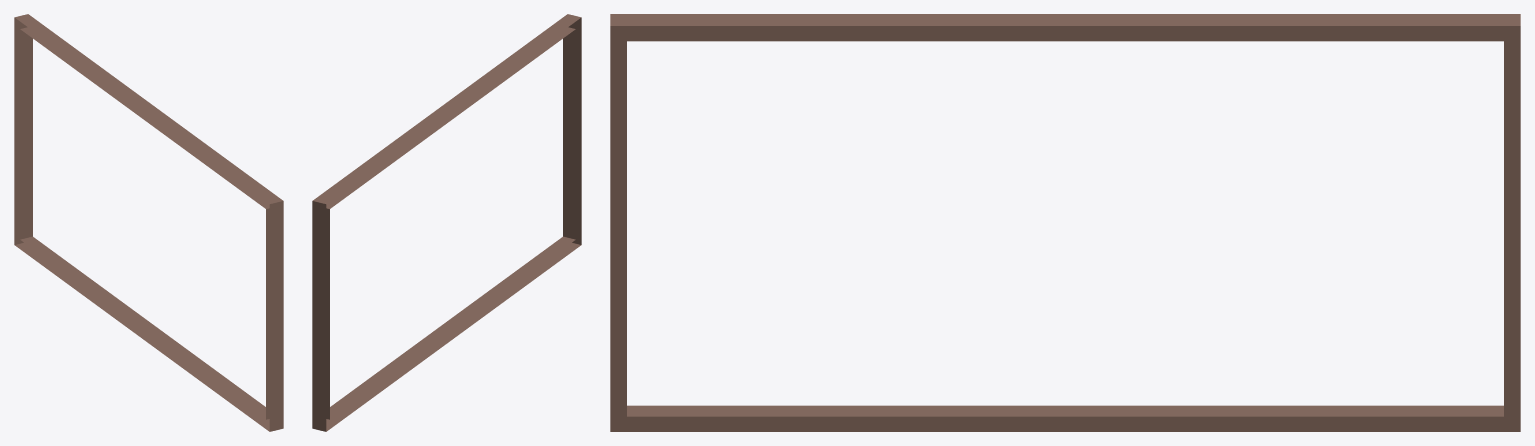
File: M_BRchushichuang01.FBX
3 views of the same model, side by side, from view 1: azimuth 30°, elevation 25°; view 2: azimuth 150°, elevation 25°; view 3: azimuth 270°, elevation 25° (orthographic). The views are drawn at different scales.
Parts seen in each view (by area): view 1: M_BRchushichuang01; view 2: M_BRchushichuang01; view 3: M_BRchushichuang01.
Part boxes in pixels (<box>): M_BRchushichuang01: <box>14,14,283,431</box>; M_BRchushichuang01: <box>312,14,581,431</box>; M_BRchushichuang01: <box>610,14,1520,431</box>.
Size of the model in its own units: 0.1783 by 2.8 by 5.7.
